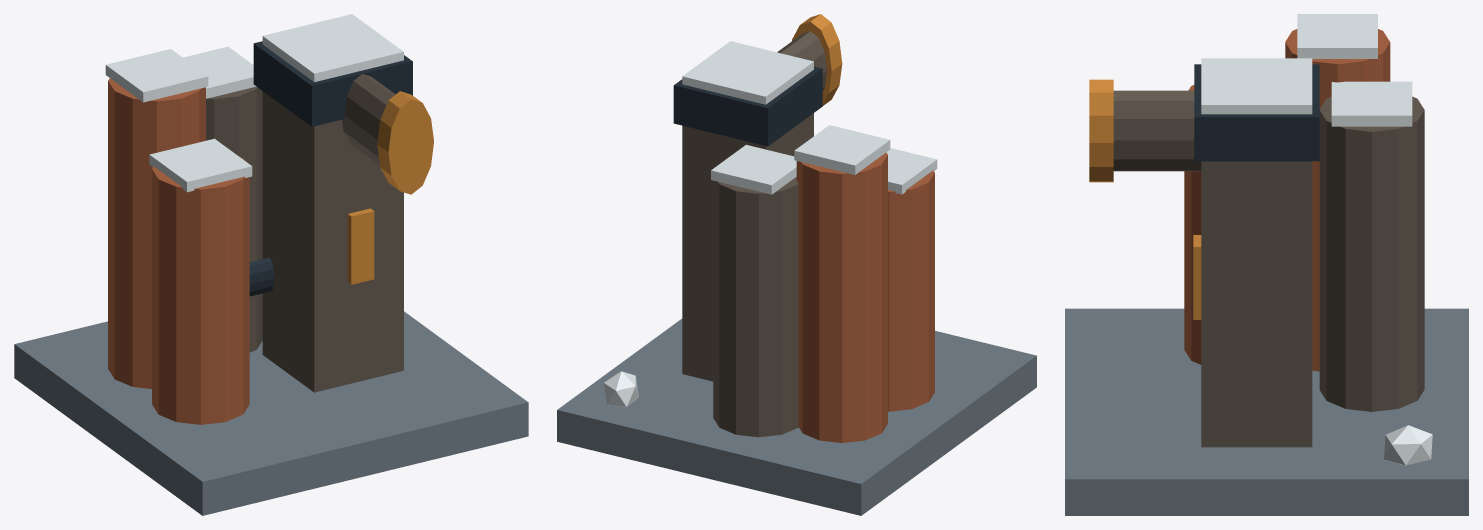
File: flame_tower.glb
3 views of the same model, side by side, from view 1: azimuth 30°, elevation 25°; view 2: azimuth 150°, elevation 25°; view 3: azimuth 270°, elevation 25° (orthographic). The views are drawn at different scales.
Visible parts, largest first — view 1: flame_tower; view 2: flame_tower; view 3: flame_tower.
Part boxes in pixels (x1=…): flame_tower: x1=14, y1=14, x2=528, y2=515; flame_tower: x1=557, y1=14, x2=1036, y2=515; flame_tower: x1=1065, y1=14, x2=1468, y2=515.
Bounding box in the file's own units: 1 × 1.04 × 1.
Materials: 1 (1 with a texture image).
